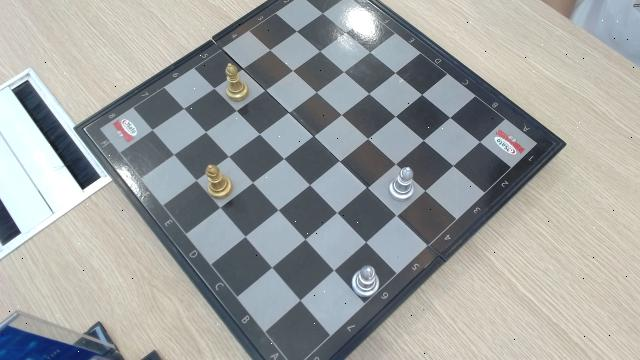black_bishop: (223, 61, 249, 102), (202, 163, 232, 198)
white_bishop: (352, 263, 380, 296), (388, 167, 415, 199)
